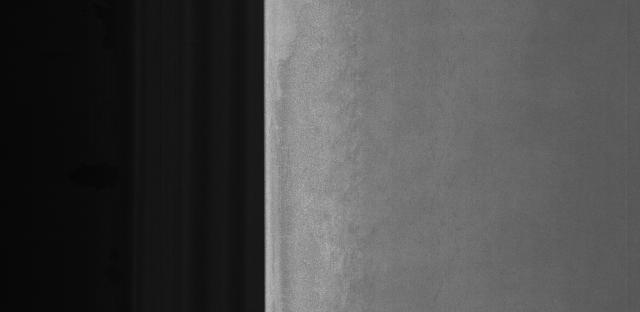silk_spot: (307, 36, 388, 221)
